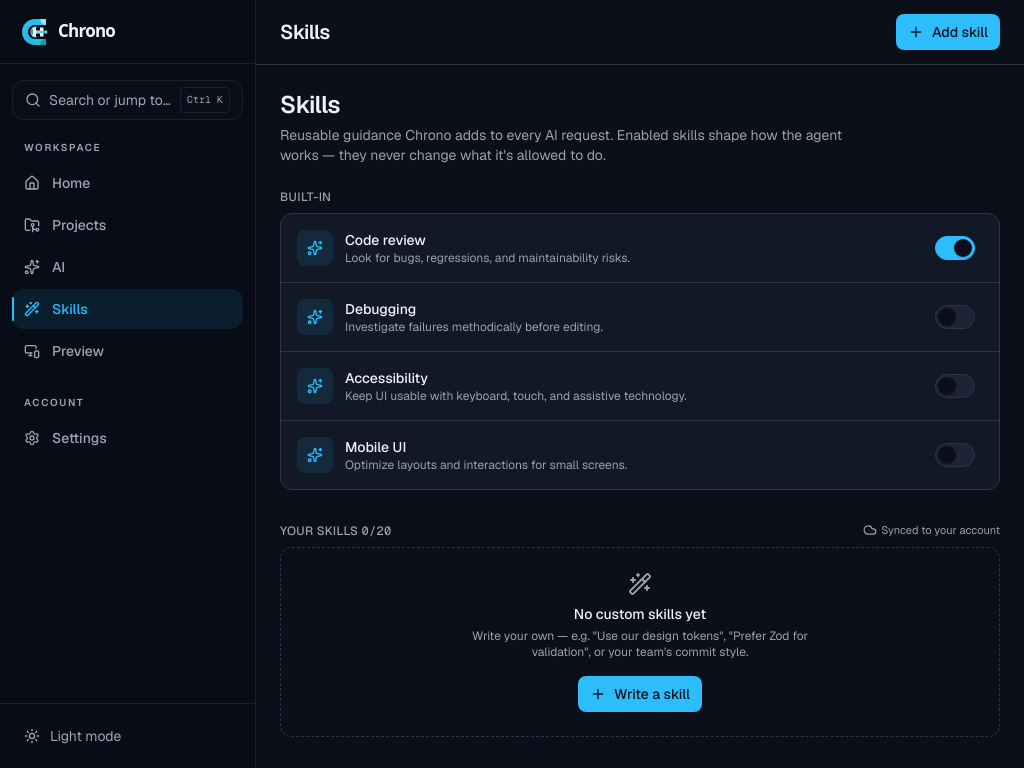
Test case: Skills page › toggles a built-in skill and syncs it
The image size is (1024, 768).
Expected: the element with test id "text-skills-storage" reads "Synced to your account", left=881, top=523, right=1000, bottom=537
Click the switch with test id "switch-skill-debugging": (955, 317) left=927, top=295, right=983, bottom=339
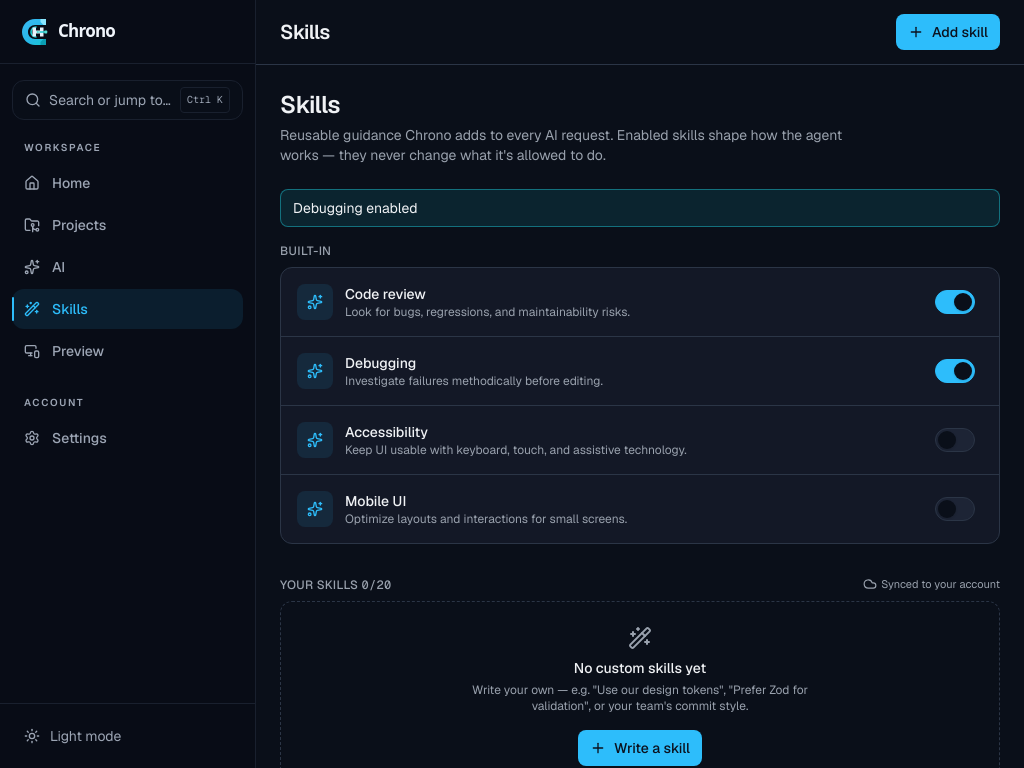
Expected: the text with test id "text-skills-saved" reads "Debugging enabled", left=293, top=199, right=418, bottom=217
